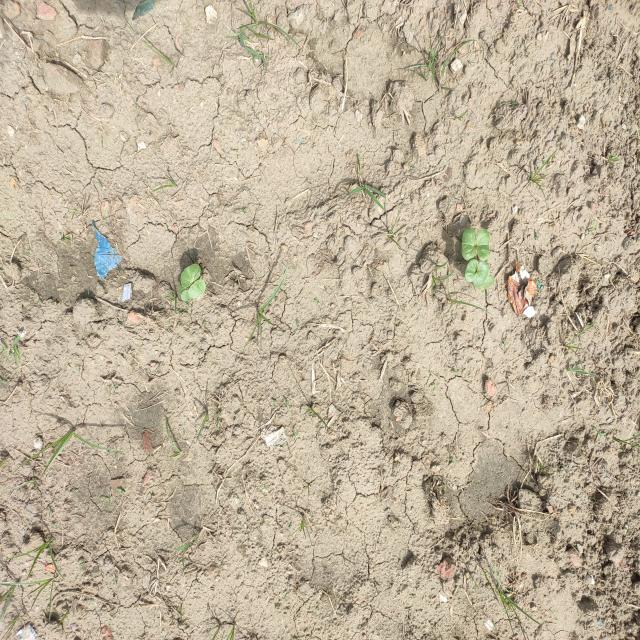seedling: (461, 227, 476, 261), (180, 264, 201, 288), (476, 229, 490, 261), (473, 261, 488, 287), (188, 279, 206, 299), (480, 268, 494, 292), (465, 259, 478, 282), (181, 287, 192, 301), (179, 284, 187, 294)
